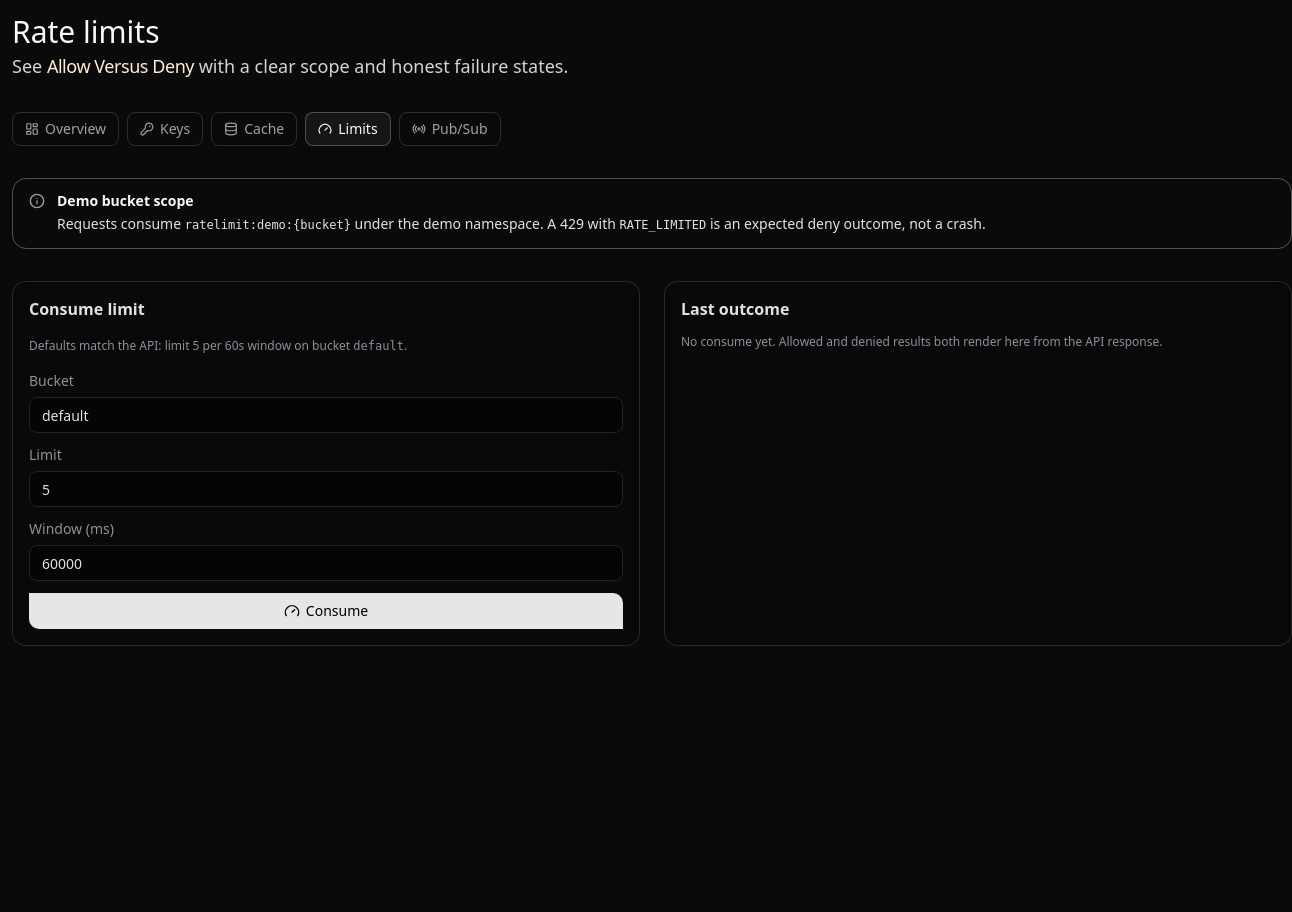
Test: LimitsLab › maps a 429 RATE_LIMITED denial into the deny UI
Click the button "Consume": [326, 611] box [29,593,623,629]
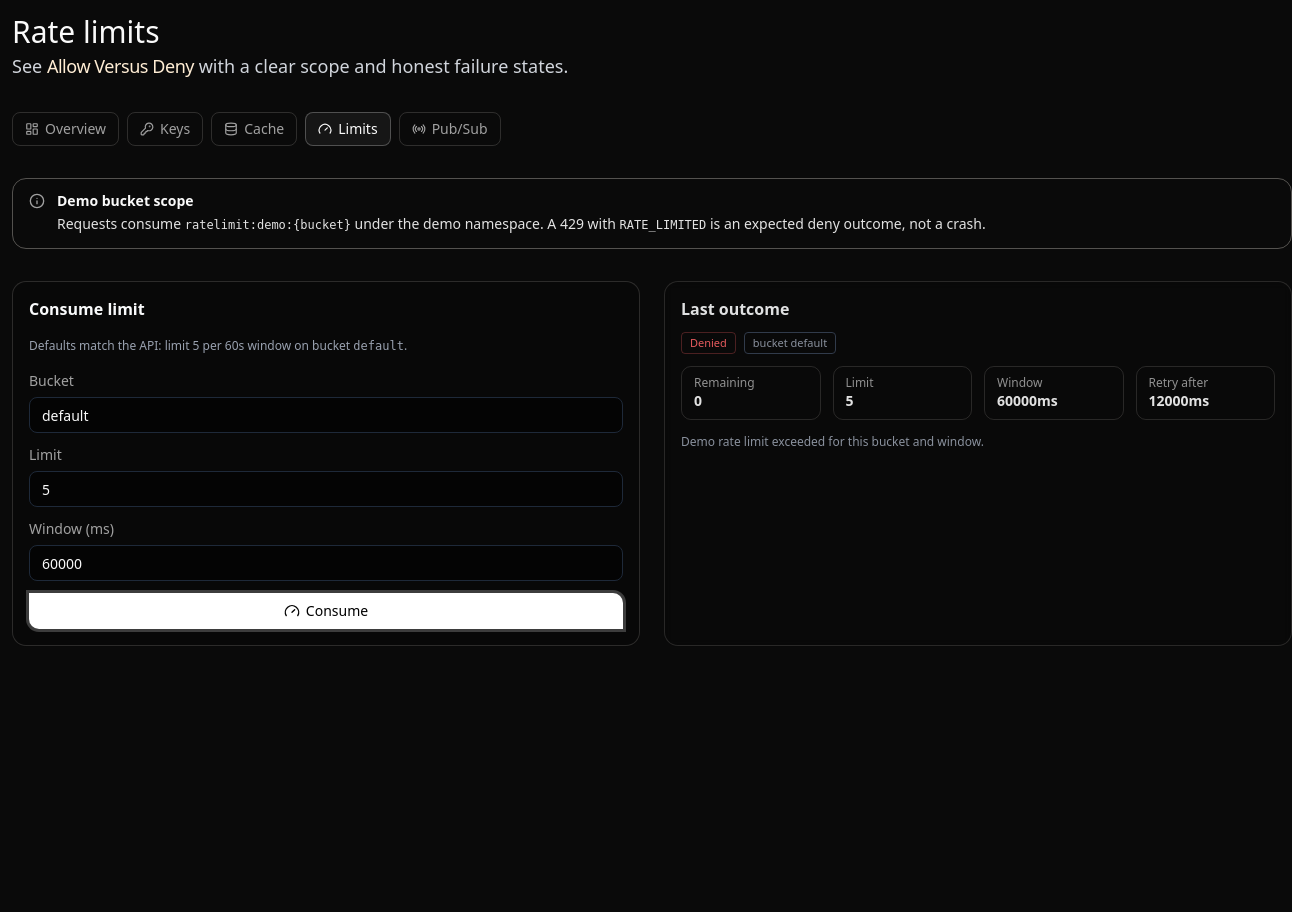
Expected: the text "Denied" is shown, [681,332,736,354]
Now the text "Demo rate limit exceeded for this bucket and window." is shown, box [681,433,984,450]
Now the text "12000ms" is shown, box [1148,391,1209,410]
